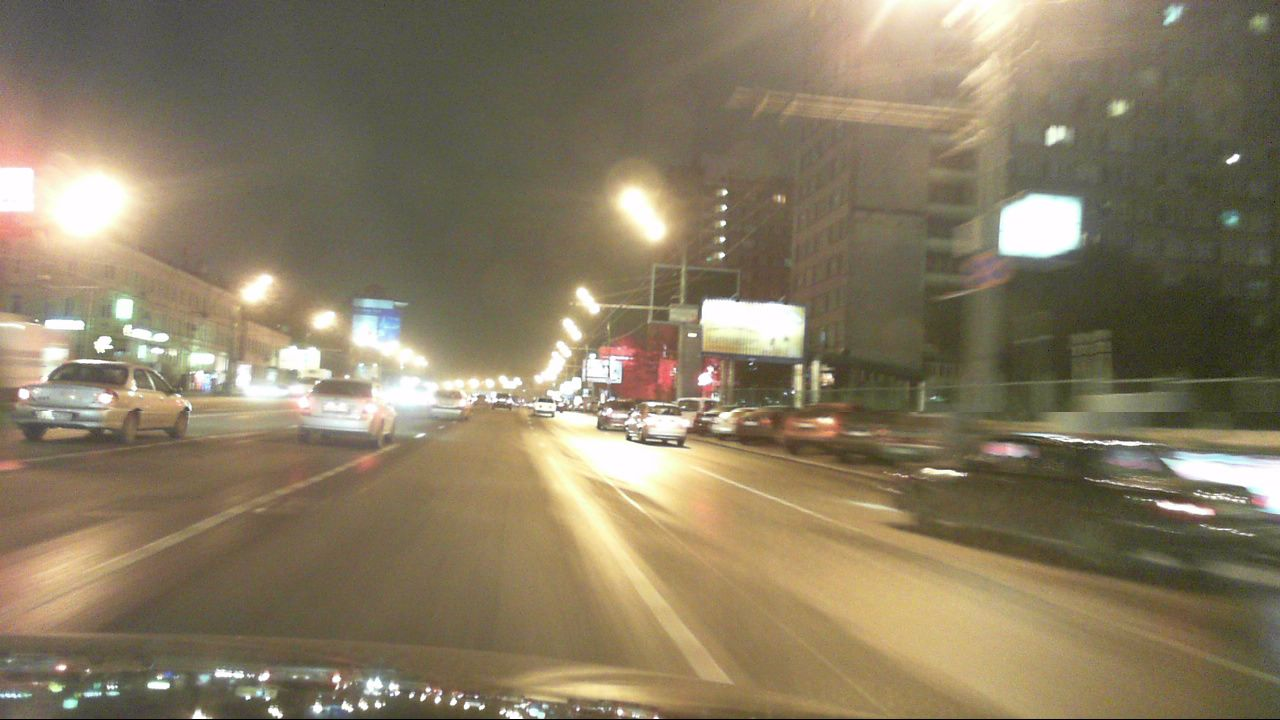No Parking: (967, 248, 1009, 287)
